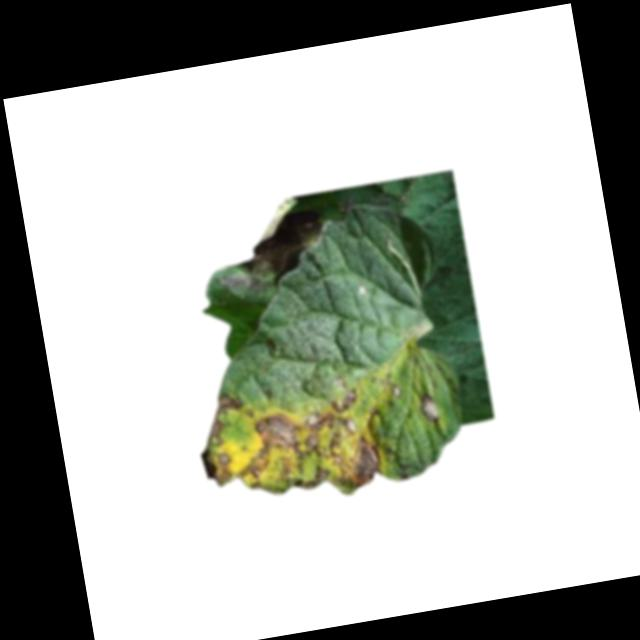Early_blight: (192, 361, 416, 514), (209, 203, 310, 300), (418, 392, 443, 425)
